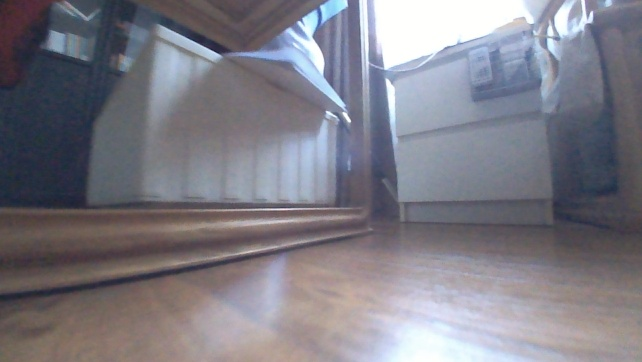cabinet: (382, 20, 562, 234)
wire: (367, 47, 451, 75)
